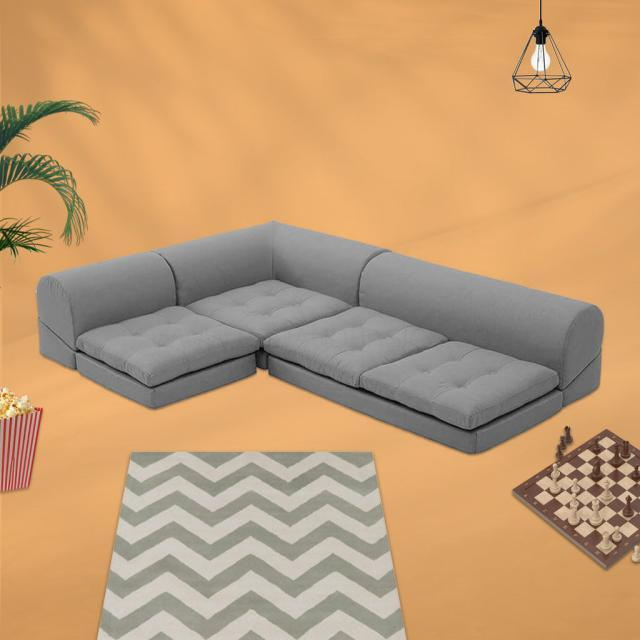sofa: (36, 218, 604, 454)
